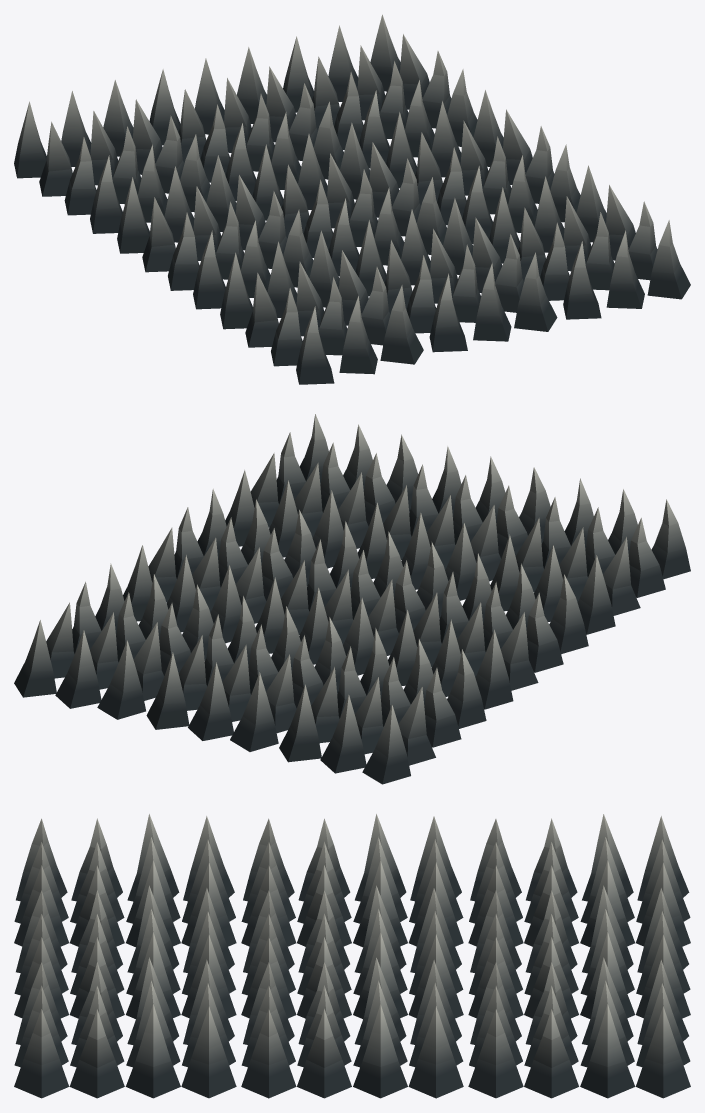
Rendered from P_Spike_3x2_000.fbx.
3 views of the same model, one above another, from view 1: azimuth 30°, elevation 25°; view 2: azimuth 150°, elevation 25°; view 3: azimuth 270°, elevation 25° (orthographic). The views are drawn at different scales.
Visible parts, largest first — view 1: SM_Spike_3x2_000; view 2: SM_Spike_3x2_000; view 3: SM_Spike_3x2_000.
Part boxes in pixels (x1,y1,x2,y2): SM_Spike_3x2_000: (14, 14, 690, 384); SM_Spike_3x2_000: (14, 414, 690, 784); SM_Spike_3x2_000: (14, 814, 690, 1098).
Bounding box in the file's own units: 6.99 × 1.2 × 9.38.
